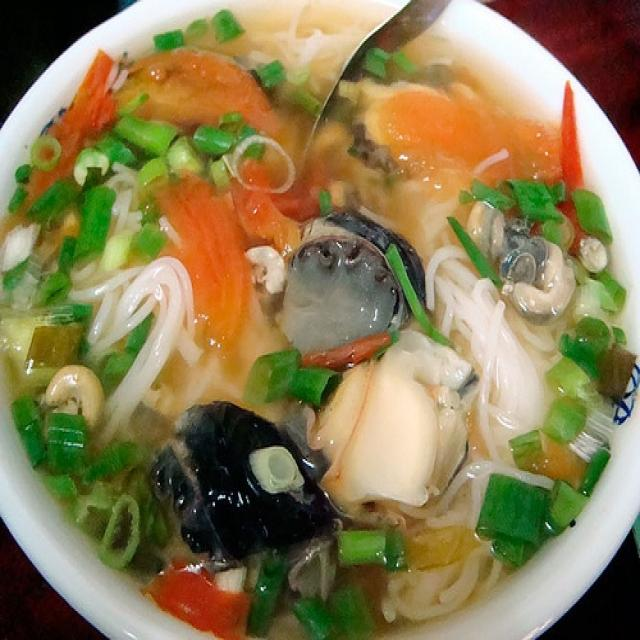面条主食: (16, 10, 620, 621)
